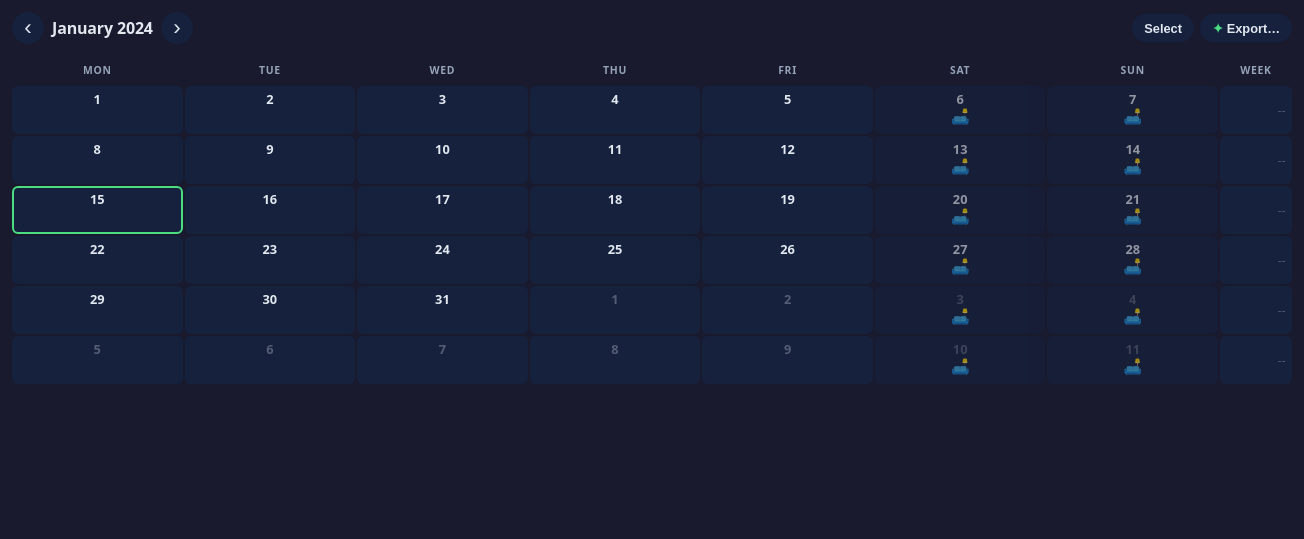
CalendarView › pro range export › shows the export button when only one format is enabled, with only that format offered
What coordinates should you click on to do the following:
click the button titled "Export a custom date range as CSV, PDF, or ICS"
I would click on:
 (1246, 28)
Its box is [1200,14,1292,42].
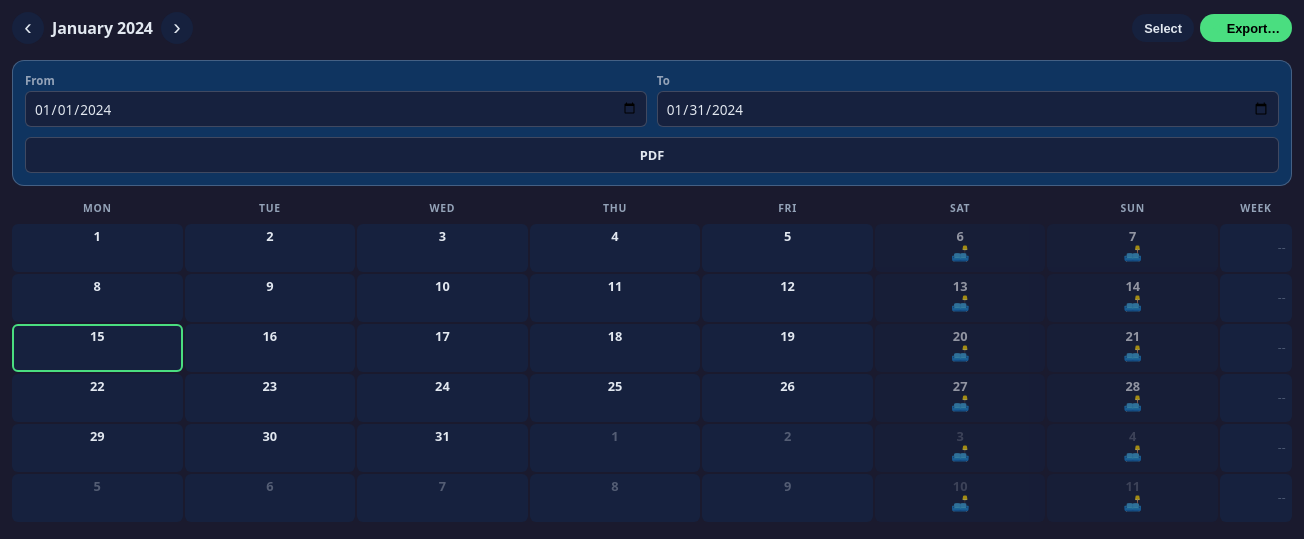
Result: the button "PDF" is shown at [25,137,1279,173]
